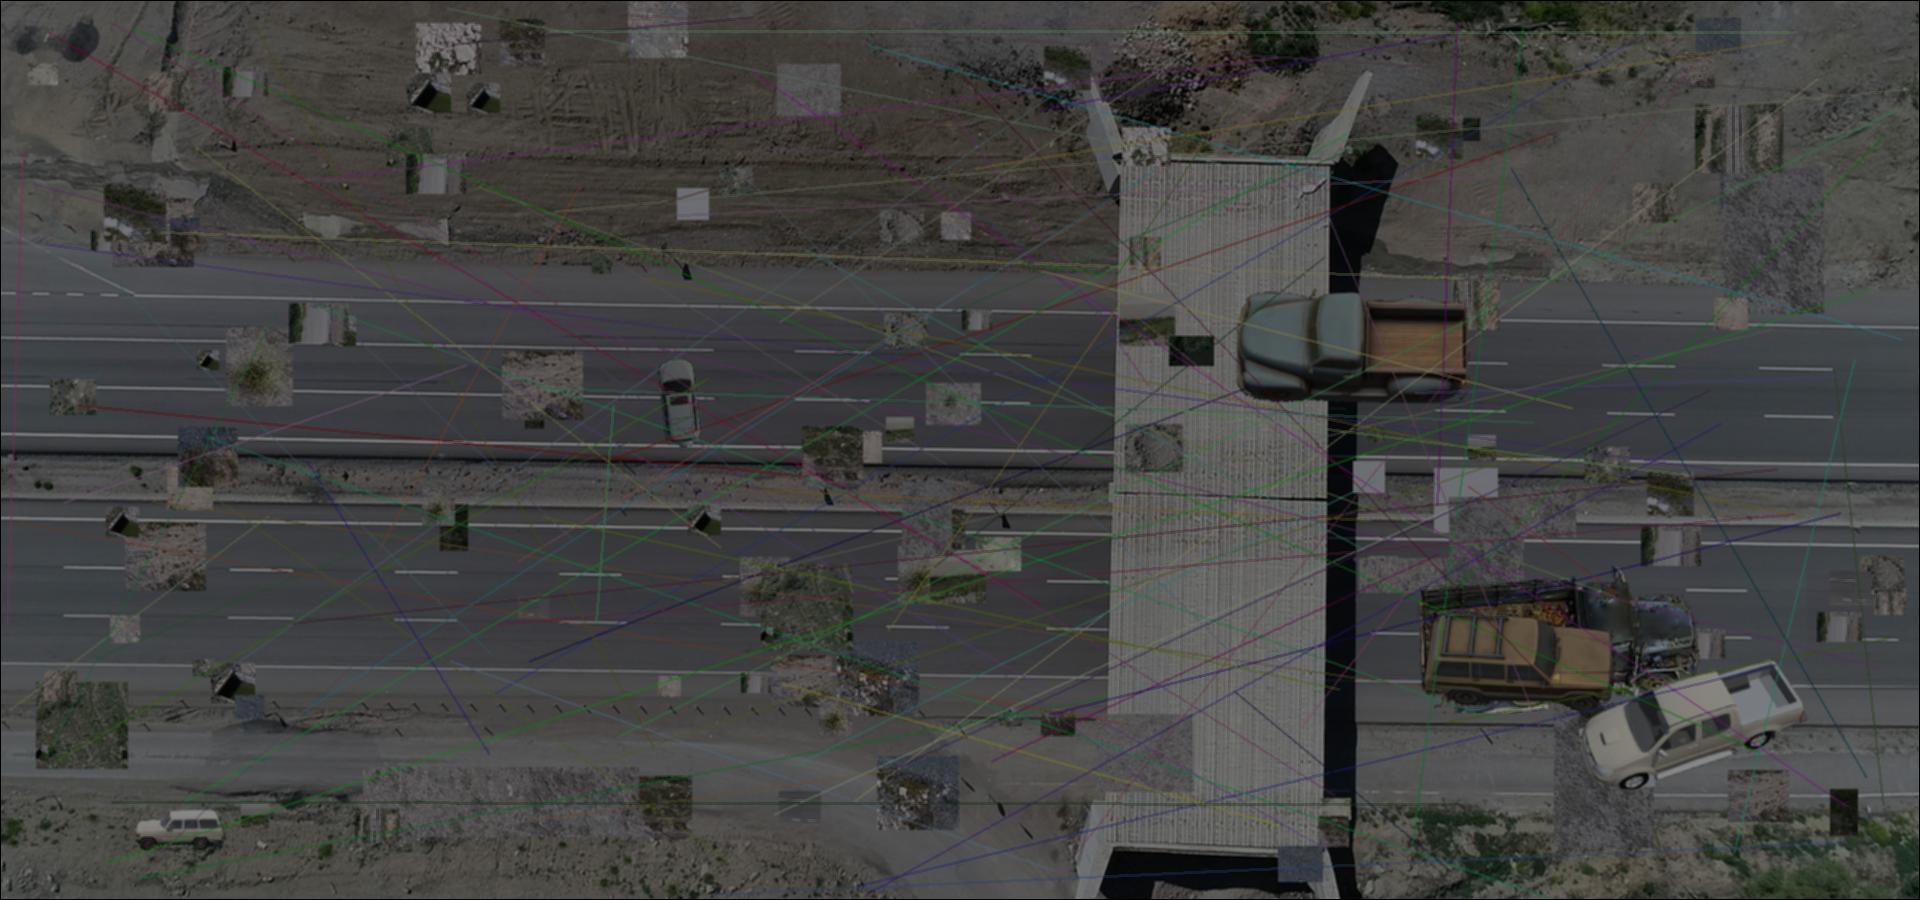arac: (1414, 566, 1700, 713), (1581, 659, 1809, 789), (1237, 284, 1471, 403), (1420, 605, 1622, 714), (653, 359, 703, 449), (133, 808, 223, 850)
